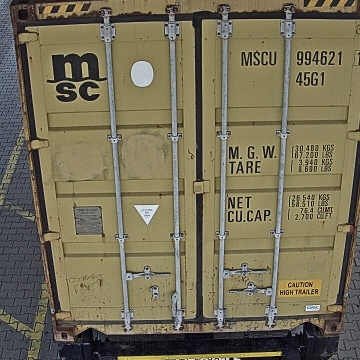serial_id: (241, 50, 360, 65)
